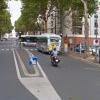Motorcycle: (46, 47, 64, 70)
